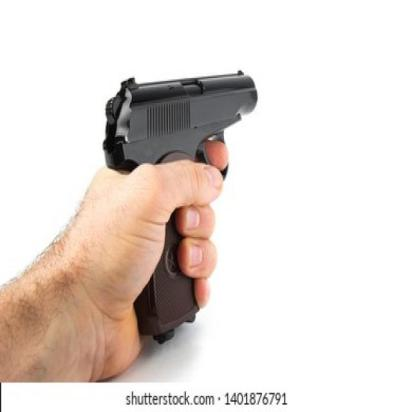Gun: (100, 63, 259, 348)
